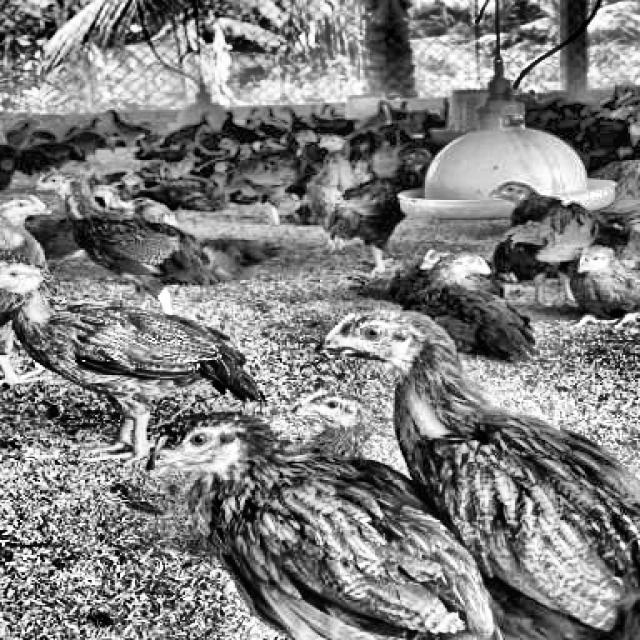Healthy: (175, 422, 228, 460), (355, 320, 395, 352)
